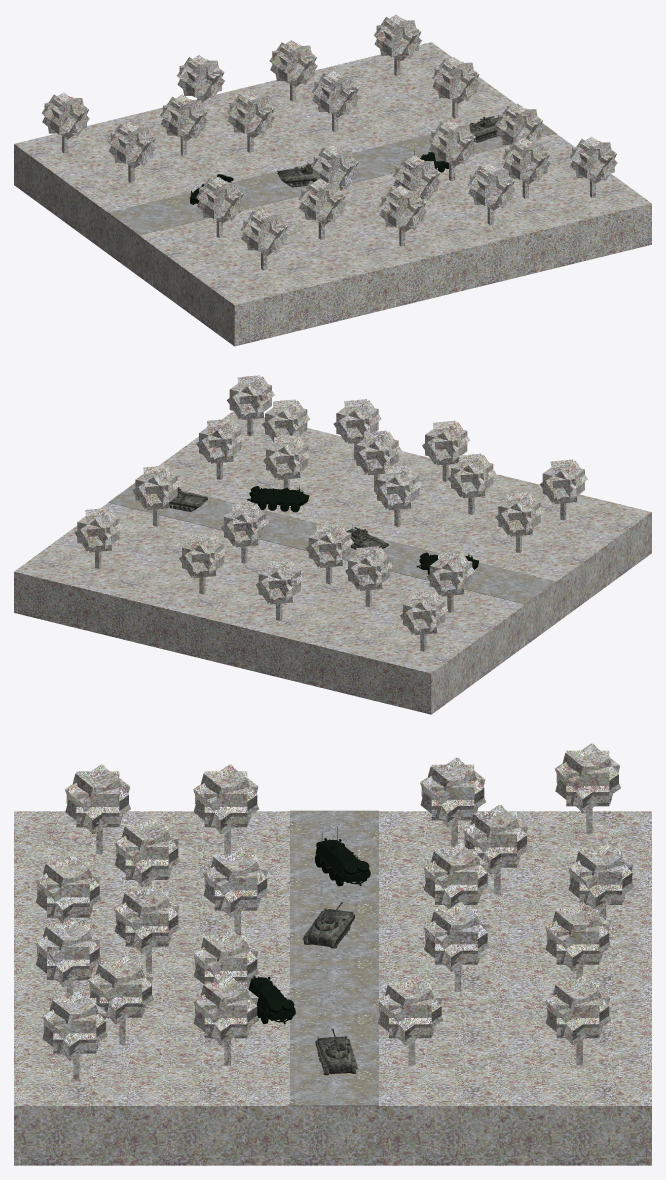
File: zng1.obj
The picture shows the model from 3 angles, top to bottom: view 1: azimuth 30°, elevation 25°; view 2: azimuth 150°, elevation 25°; view 3: azimuth 270°, elevation 25°; orthographic projection. The views are drawn at different scales.
Visible parts, largest first — view 1: Part1, Part2, Union5, Union10, Union12, Union14, Union20, Union1, Union7, Union15, Union2, Union6 (+12 smaller); view 2: Part1, Part2, Union1, Union5, Union13, Union6, Union10, Union18, Union11, Union2, Union3, Union9 (+13 smaller); view 3: Part1, Part2, Union5, Union2, Union11, Union8, Union7, Union13, Union9, Union18, Union1, Union16 (+14 smaller).
Boxes of the visible parts, x1,y1,x2,y2 form: Part1: (14, 42, 651, 346); Part2: (108, 123, 556, 236); Union5: (432, 57, 479, 118); Union10: (227, 91, 274, 152); Union12: (428, 120, 476, 181); Union14: (467, 163, 515, 224); Union20: (378, 185, 426, 246); Union1: (108, 121, 155, 182); Union7: (41, 92, 89, 153); Union15: (298, 178, 346, 239); Union2: (374, 14, 421, 75); Union6: (160, 94, 208, 155); Part1: (14, 411, 651, 714); Part2: (108, 483, 556, 605); Union1: (427, 551, 474, 612); Union5: (132, 465, 180, 526); Union13: (196, 419, 244, 479); Union6: (345, 546, 393, 607); Union10: (305, 523, 353, 584); Union18: (227, 375, 274, 436); Union11: (539, 459, 587, 520); Union2: (74, 508, 122, 568); Union3: (179, 533, 226, 594); Union9: (221, 502, 269, 563); Part1: (14, 811, 651, 1165); Part2: (290, 810, 378, 1108); Union5: (377, 975, 443, 1065); Union2: (545, 975, 610, 1065); Union11: (64, 764, 130, 854); Union8: (193, 764, 258, 854); Union7: (555, 743, 620, 833); Union13: (193, 975, 259, 1065); Union9: (423, 902, 489, 991); Union18: (42, 991, 107, 1080); Union1: (420, 757, 485, 847); Union16: (114, 884, 180, 973).
Bounding box in the file's own units: 42.4 × 9.57 × 38.8.
5 materials, 4 textured.
